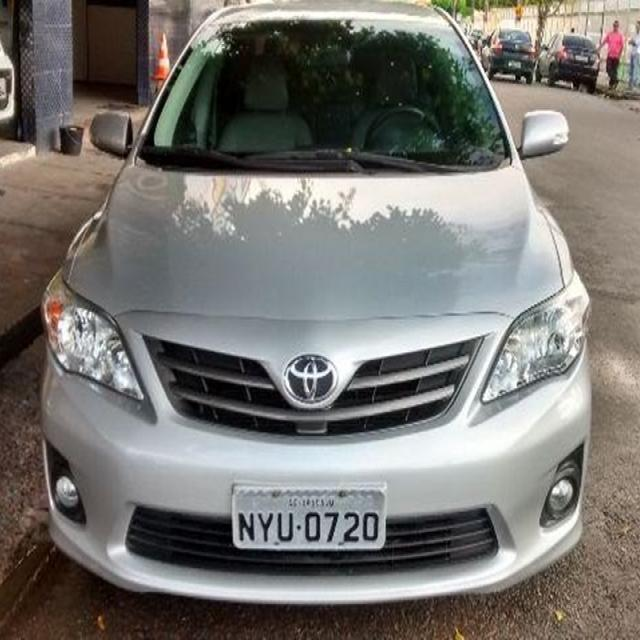Placa: (229, 481, 391, 555)
